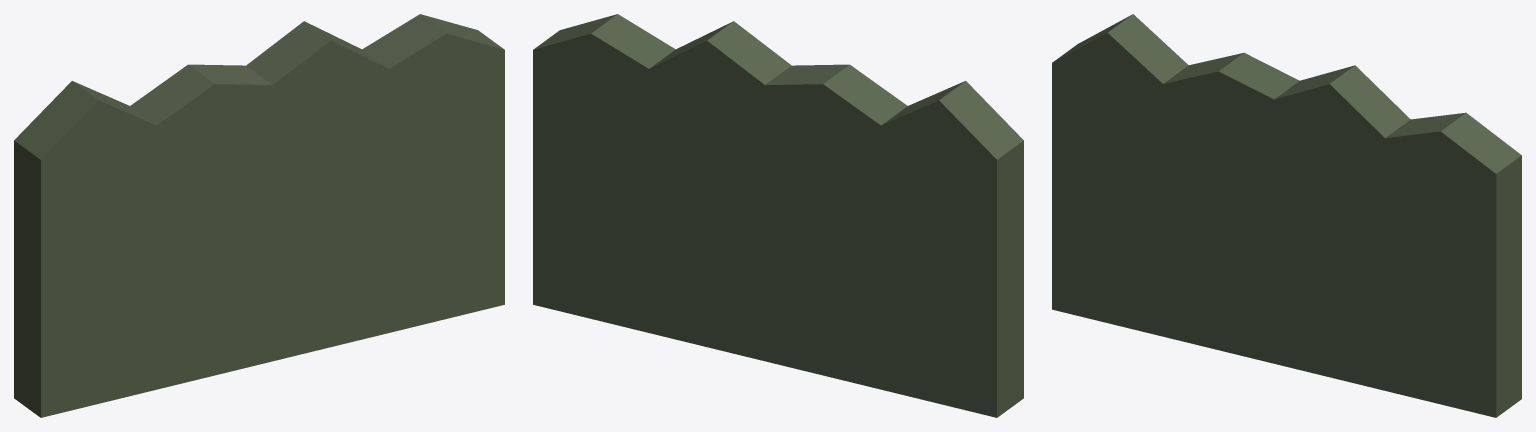
File: SM_CityTerrain.fbx
3 views of the same model, side by side, from view 1: azimuth 30°, elevation 25°; view 2: azimuth 150°, elevation 25°; view 3: azimuth 330°, elevation 25° (orthographic). The views are drawn at different scales.
Parts seen in each view (by area): view 1: SM_CityTerrain; view 2: SM_CityTerrain; view 3: SM_CityTerrain.
Boxes of the visible parts, <box> form: SM_CityTerrain: <box>14,14,504,417</box>; SM_CityTerrain: <box>533,14,1023,417</box>; SM_CityTerrain: <box>1052,14,1521,417</box>.
Bounding box in the file's own units: 800 × 80 × 505.
